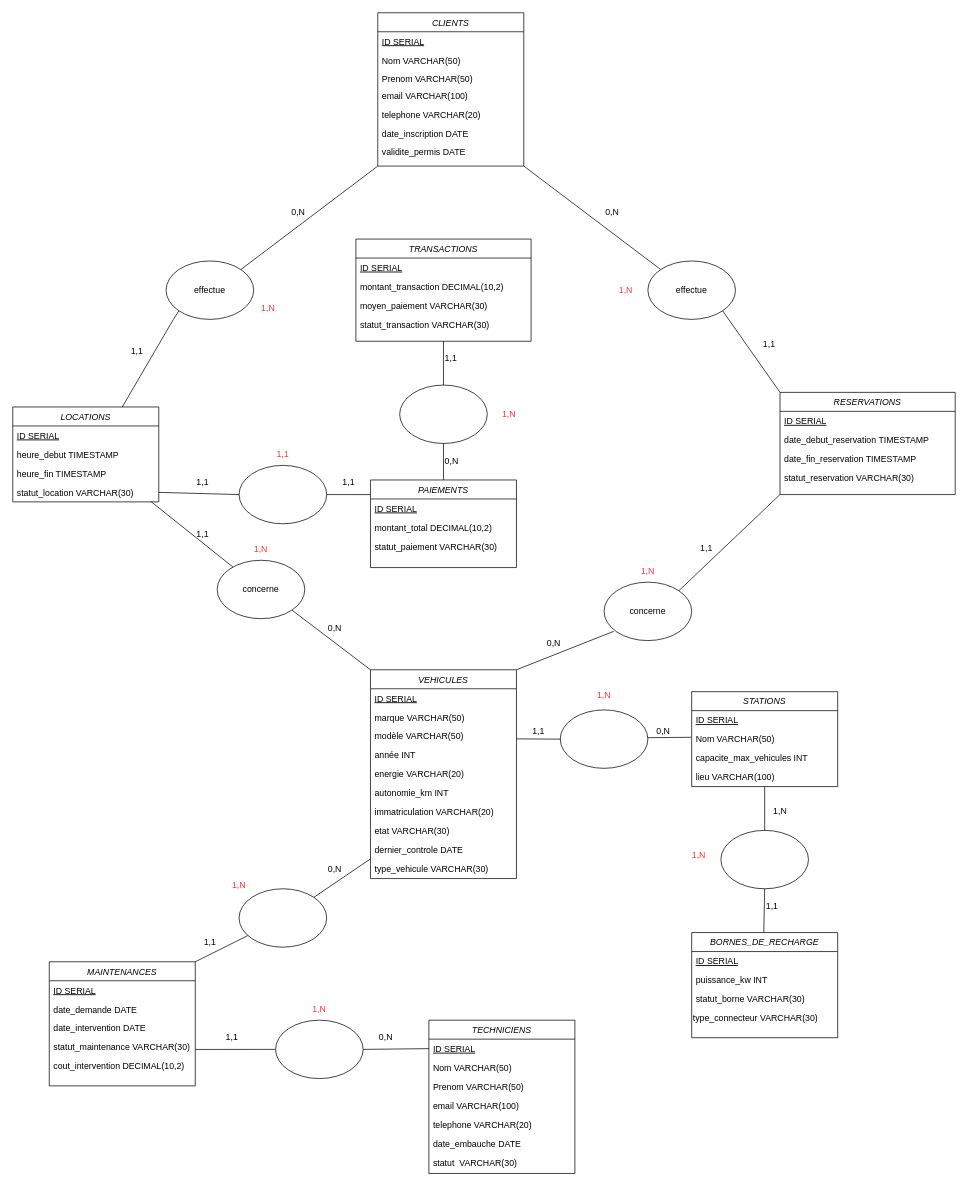
Image size: 968x1187. Some labels were removed from this diagram. Each missing label, with the centre of its shape:
"comprend" goes at [443,413].
"contient" goes at [604,738].
"necessite" goes at [282,494].
"possède" goes at [764,859].
"réalise" goes at [319,1049].
"subit" goes at [282,917].
